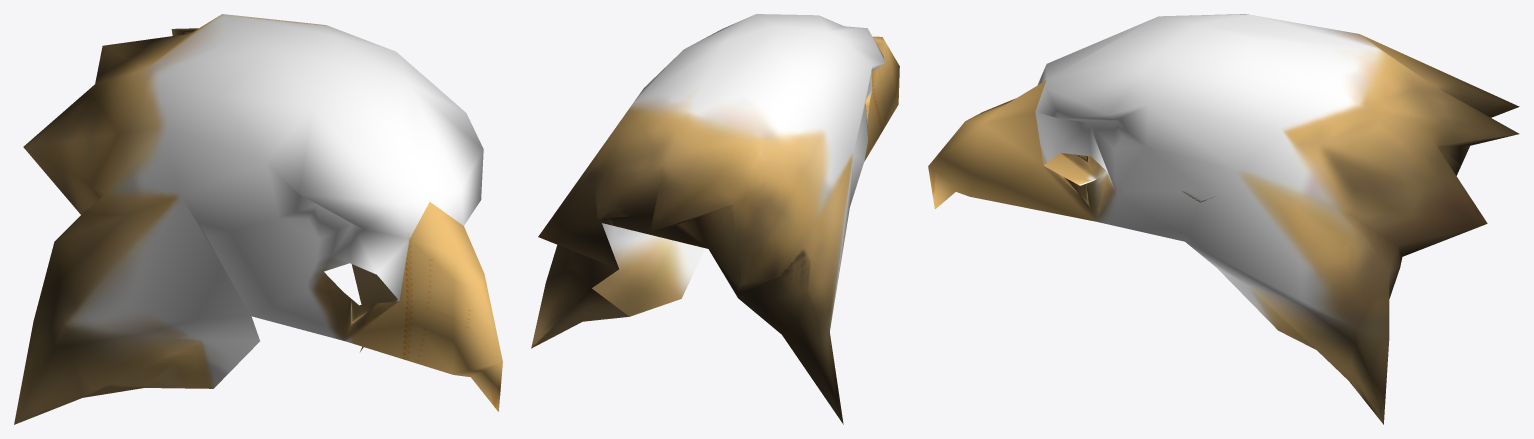
Rendered from eagle mask.fbx.
3 views of the same model, side by side, from view 1: azimuth 30°, elevation 25°; view 2: azimuth 150°, elevation 25°; view 3: azimuth 270°, elevation 25° (orthographic). The views are drawn at different scales.
Visible parts, largest first — view 1: default; view 2: default; view 3: default.
Part boxes in pixels (bbox=[...]): default: bbox=[14, 14, 502, 424]; default: bbox=[531, 14, 899, 424]; default: bbox=[928, 14, 1519, 424].
Size of the model in its own units: 79.15 by 71.94 by 121.
